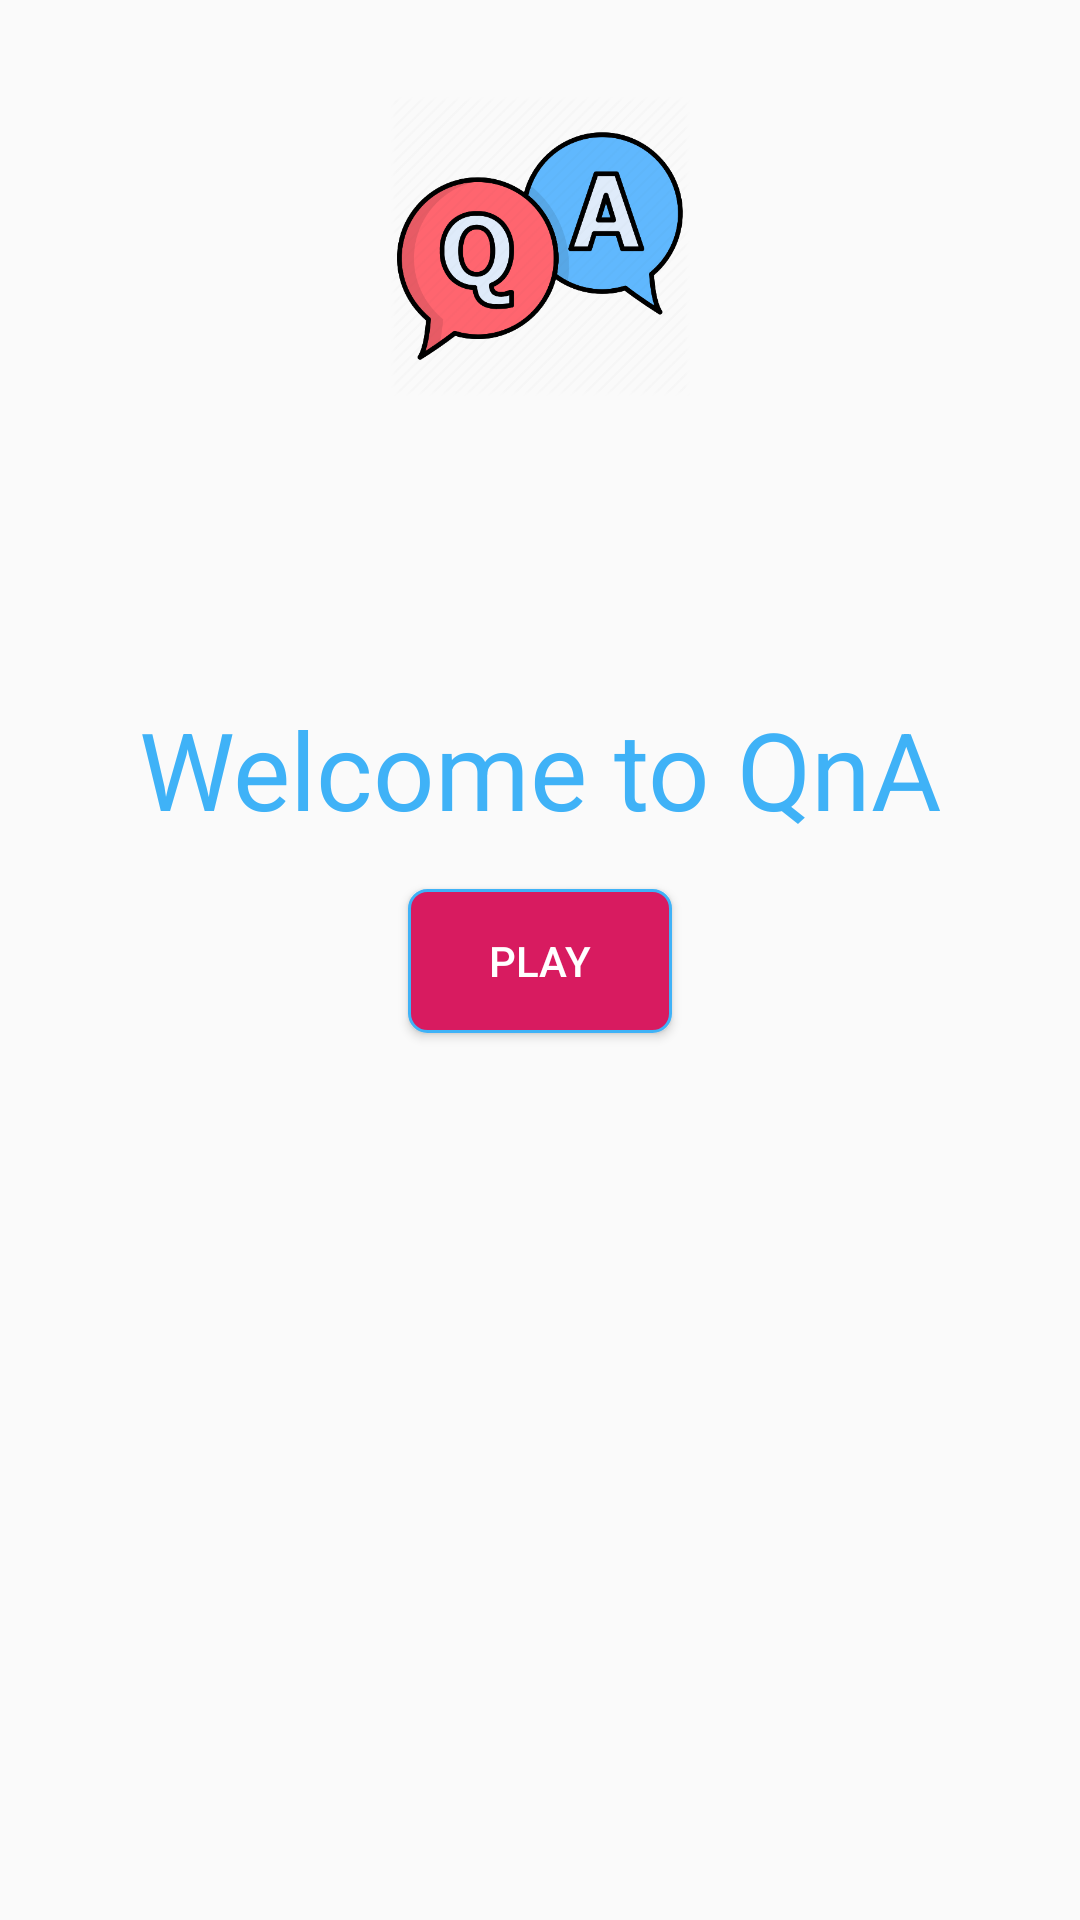

Where icons sit on this 1080px×1920px app screen, as (x1, y1, x2, y2):
qna: (397, 132, 683, 360)
